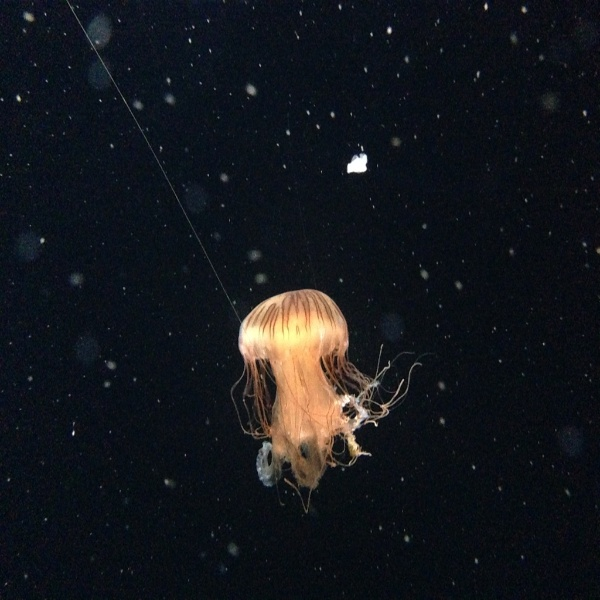Jellyfish: (223, 291, 418, 511)
